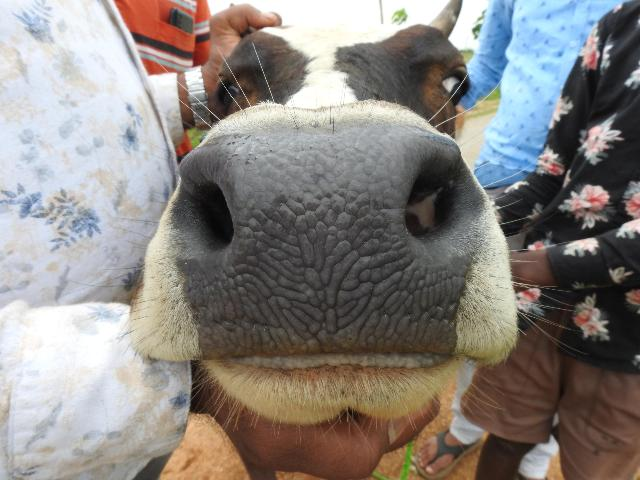Muzzle: (196, 141, 442, 350)
